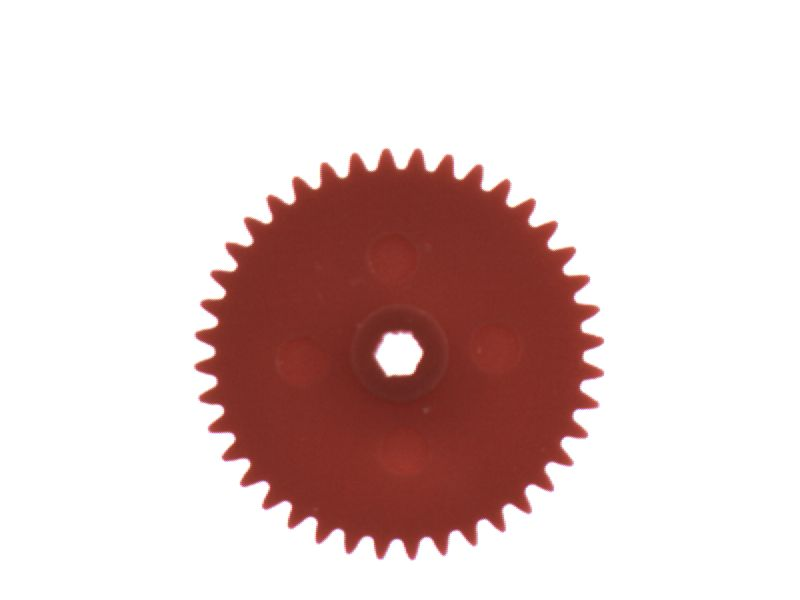good_product: (181, 134, 615, 575)
